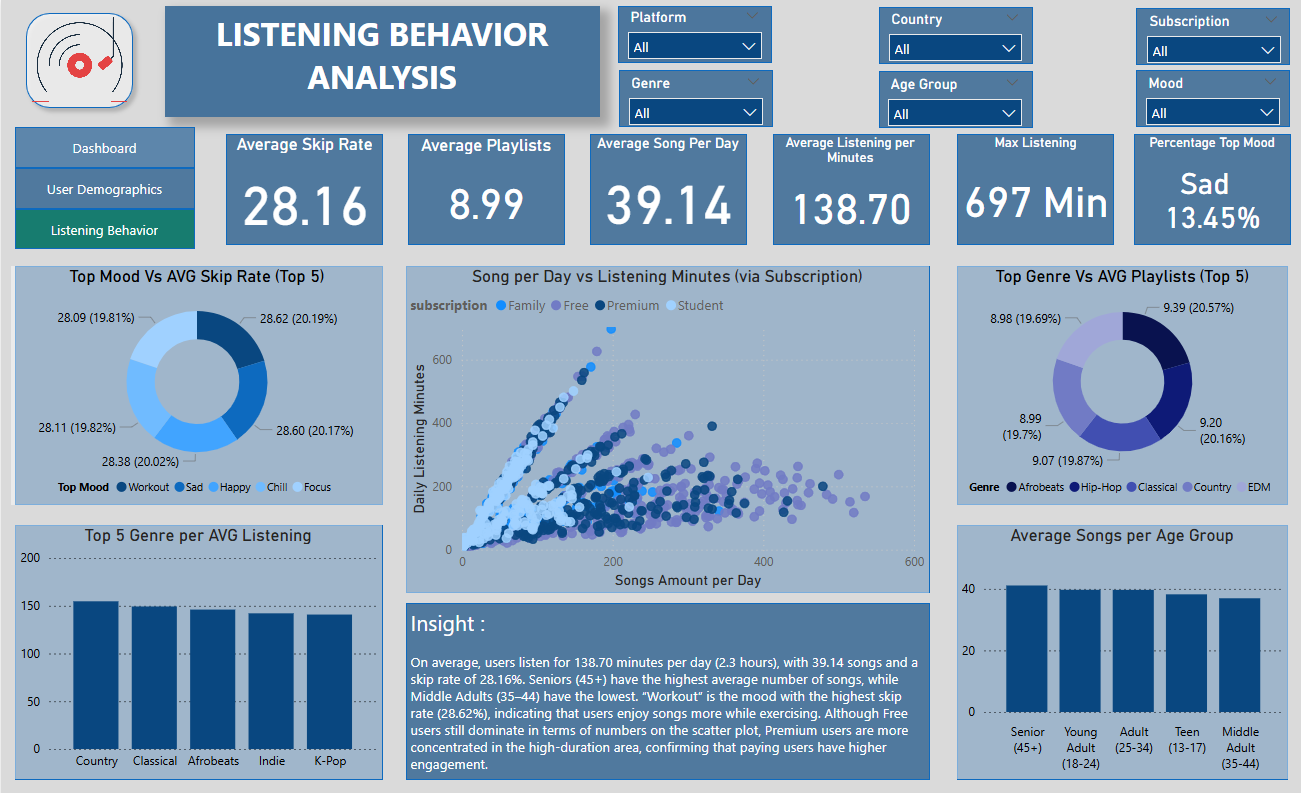

Layout of this report page (visuals, bound fields, positions):
{"tool":"powerbi","page":{"name":"Listening Behavior","canvas":[1300,810],"ordinal":2},"visuals":[{"type":"textbox","box":[164.1,5.8,434.8,110.9],"z":0},{"type":"shape","box":[15.8,4.3,125.2,112.3],"z":1000},{"type":"image","box":[15.8,4.3,125.2,110.9],"z":2000},{"type":"shape","box":[617,6,154,57],"z":3000},{"type":"shape","box":[878,7,154,57],"z":4000},{"type":"shape","box":[878,71,154,57],"z":5000},{"type":"shape","box":[1135,8,154,57],"z":6000},{"type":"slicer","fields":{"Values":["music_streaming_habits_2026.platform"]},"box":[617,4,154,59],"z":7000},{"type":"slicer","fields":{"Values":["music_streaming_habits_2026.country"]},"box":[878,6,153,59],"z":8000},{"type":"shape","box":[224.6,133.9,156.9,110.9],"z":9000},{"type":"shape","box":[407.4,133.9,156.9,110.9],"z":10000},{"type":"shape","box":[588.8,133.9,156.9,110.9],"z":11000},{"type":"shape","box":[771.7,133.9,156.9,110.9],"z":12000},{"type":"shape","box":[1133,133.9,156.9,110.9],"z":13000},{"type":"shape","box":[955.9,133.9,156.9,110.9],"z":14000},{"type":"shape","box":[14.4,126.7,180,41.7],"z":15000},{"type":"shape","box":[14.4,266.3,367.1,239],"z":16000},{"type":"shape","box":[14.4,168.4,180,40.3],"z":17000},{"type":"shape","box":[14.4,208.7,180,40.3],"z":18000},{"type":"shape","box":[14.4,525.5,367.1,254.8],"z":19000},{"type":"shape","box":[404.5,266.3,524,326.8],"z":20000},{"type":"shape","box":[955.9,266.3,331.1,239],"z":21000},{"type":"shape","box":[955.9,525.5,331.1,254.8],"z":22000},{"type":"shape","box":[404.5,603.2,524,177.1],"z":23000},{"type":"slicer","fields":{"Values":["music_streaming_habits_2026.subscription"]},"box":[1136,8,154,57],"z":24000},{"type":"textbox","box":[405,603,525,178],"z":25000},{"type":"slicer","fields":{"Values":["music_streaming_habits_2026.age_group"]},"box":[877,71,154,57],"z":26000},{"type":"card","title":"Average Skip Rate","fields":{"Values":["music_streaming_habits_2026.Avg_Skip_Rate"]},"box":[226,134,156,111],"z":27000},{"type":"card","title":"Average Listening per Minutes","fields":{"Values":["music_streaming_habits_2026.Avg_Listening_Minutes"]},"box":[771,135,157,110],"z":29000},{"type":"card","title":"Average Song Per Day","fields":{"Values":["music_streaming_habits_2026.Avg_Songs_Per_Day"]},"box":[589,135,157,110],"z":30000},{"type":"card","title":"Average Playlists","fields":{"Values":["music_streaming_habits_2026.Avg_Playlists"]},"box":[407,135,157,110],"z":31000},{"type":"card","title":"Max Listening","fields":{"Values":["music_streaming_habits_2026.Max_Listening"]},"box":[956,135,158,110],"z":32000},{"type":"card","title":"Percentage Top Mood","fields":{"Values":["music_streaming_habits_2026.Pct_Top_Mood"]},"box":[1133,135,157,110],"z":33000},{"type":"donutChart","title":"Top Mood Vs AVG Skip Rate (Top 5)","fields":{"Category":["music_streaming_habits_2026.top_mood"],"Y":["music_streaming_habits_2026.Avg_Skip_Rate"]},"box":[10.1,266.3,372.1,239],"z":34000},{"type":"columnChart","title":"Average Songs per Age Group","fields":{"Category":["music_streaming_habits_2026.age_group"],"Y":["music_streaming_habits_2026.Avg_Songs_Per_Day"]},"box":[956,525,331,254],"z":35000},{"type":"columnChart","title":"Top 5 Genre per AVG Listening","fields":{"Y":["music_streaming_habits_2026.Avg_Listening_Minutes"],"Category":["music_streaming_habits_2026.top_genre"]},"box":[14,525,367,254],"z":36000},{"type":"shape","box":[618,70,154,57],"z":37000},{"type":"shape","box":[1135,70,154,57],"z":38000},{"type":"slicer","fields":{"Values":["music_streaming_habits_2026.top_genre"]},"box":[618,70,154,57],"z":39000},{"type":"slicer","fields":{"Values":["music_streaming_habits_2026.top_mood"]},"box":[1135,70,154,57],"z":40000},{"type":"scatterChart","title":"Song per Day vs Listening Minutes (via Subscription)","fields":{"X":["Sum(music_streaming_habits_2026.songs_per_day)"],"Series":["music_streaming_habits_2026.subscription"],"Y":["music_streaming_habits_2026.daily_listening_minutes"]},"box":[405,266,523,327],"z":41000},{"type":"donutChart","title":"Top Genre Vs AVG Playlists (Top 5)","fields":{"Category":["music_streaming_habits_2026.top_genre"],"Y":["music_streaming_habits_2026.Avg_Playlists"]},"box":[956,266,331,239],"z":41001}]}

Visuals, with their boxes in screenshot pixels (x1, y1, x2, y2), scaled from the page's 1300x810 canvas onto the 1301x793 screenshot:
textbox: box(164, 6, 599, 114)
shape: box(16, 4, 141, 114)
image: box(16, 4, 141, 113)
shape: box(617, 6, 772, 62)
shape: box(879, 7, 1033, 63)
shape: box(879, 70, 1033, 125)
shape: box(1136, 8, 1290, 64)
slicer - music_streaming_habits_2026.platform: box(617, 4, 772, 62)
slicer - music_streaming_habits_2026.country: box(879, 6, 1032, 64)
shape: box(225, 131, 382, 240)
shape: box(408, 131, 565, 240)
shape: box(589, 131, 746, 240)
shape: box(772, 131, 929, 240)
shape: box(1134, 131, 1291, 240)
shape: box(957, 131, 1114, 240)
shape: box(14, 124, 195, 165)
shape: box(14, 261, 382, 495)
shape: box(14, 165, 195, 204)
shape: box(14, 204, 195, 244)
shape: box(14, 514, 382, 764)
shape: box(405, 261, 929, 581)
shape: box(957, 261, 1288, 495)
shape: box(957, 514, 1288, 764)
shape: box(405, 591, 929, 764)
slicer - music_streaming_habits_2026.subscription: box(1137, 8, 1291, 64)
textbox: box(405, 590, 931, 765)
slicer - music_streaming_habits_2026.age_group: box(878, 70, 1032, 125)
"Average Skip Rate" card: box(226, 131, 382, 240)
"Average Listening per Minutes" card: box(772, 132, 929, 240)
"Average Song Per Day" card: box(589, 132, 747, 240)
"Average Playlists" card: box(407, 132, 564, 240)
"Max Listening" card: box(957, 132, 1115, 240)
"Percentage Top Mood" card: box(1134, 132, 1291, 240)
"Top Mood Vs AVG Skip Rate (Top 5)" donutChart: box(10, 261, 382, 495)
"Average Songs per Age Group" columnChart: box(957, 514, 1288, 763)
"Top 5 Genre per AVG Listening" columnChart: box(14, 514, 381, 763)
shape: box(618, 69, 773, 124)
shape: box(1136, 69, 1290, 124)
slicer - music_streaming_habits_2026.top_genre: box(618, 69, 773, 124)
slicer - music_streaming_habits_2026.top_mood: box(1136, 69, 1290, 124)
"Song per Day vs Listening Minutes (via Subscription)" scatterChart: box(405, 260, 929, 581)
"Top Genre Vs AVG Playlists (Top 5)" donutChart: box(957, 260, 1288, 494)
